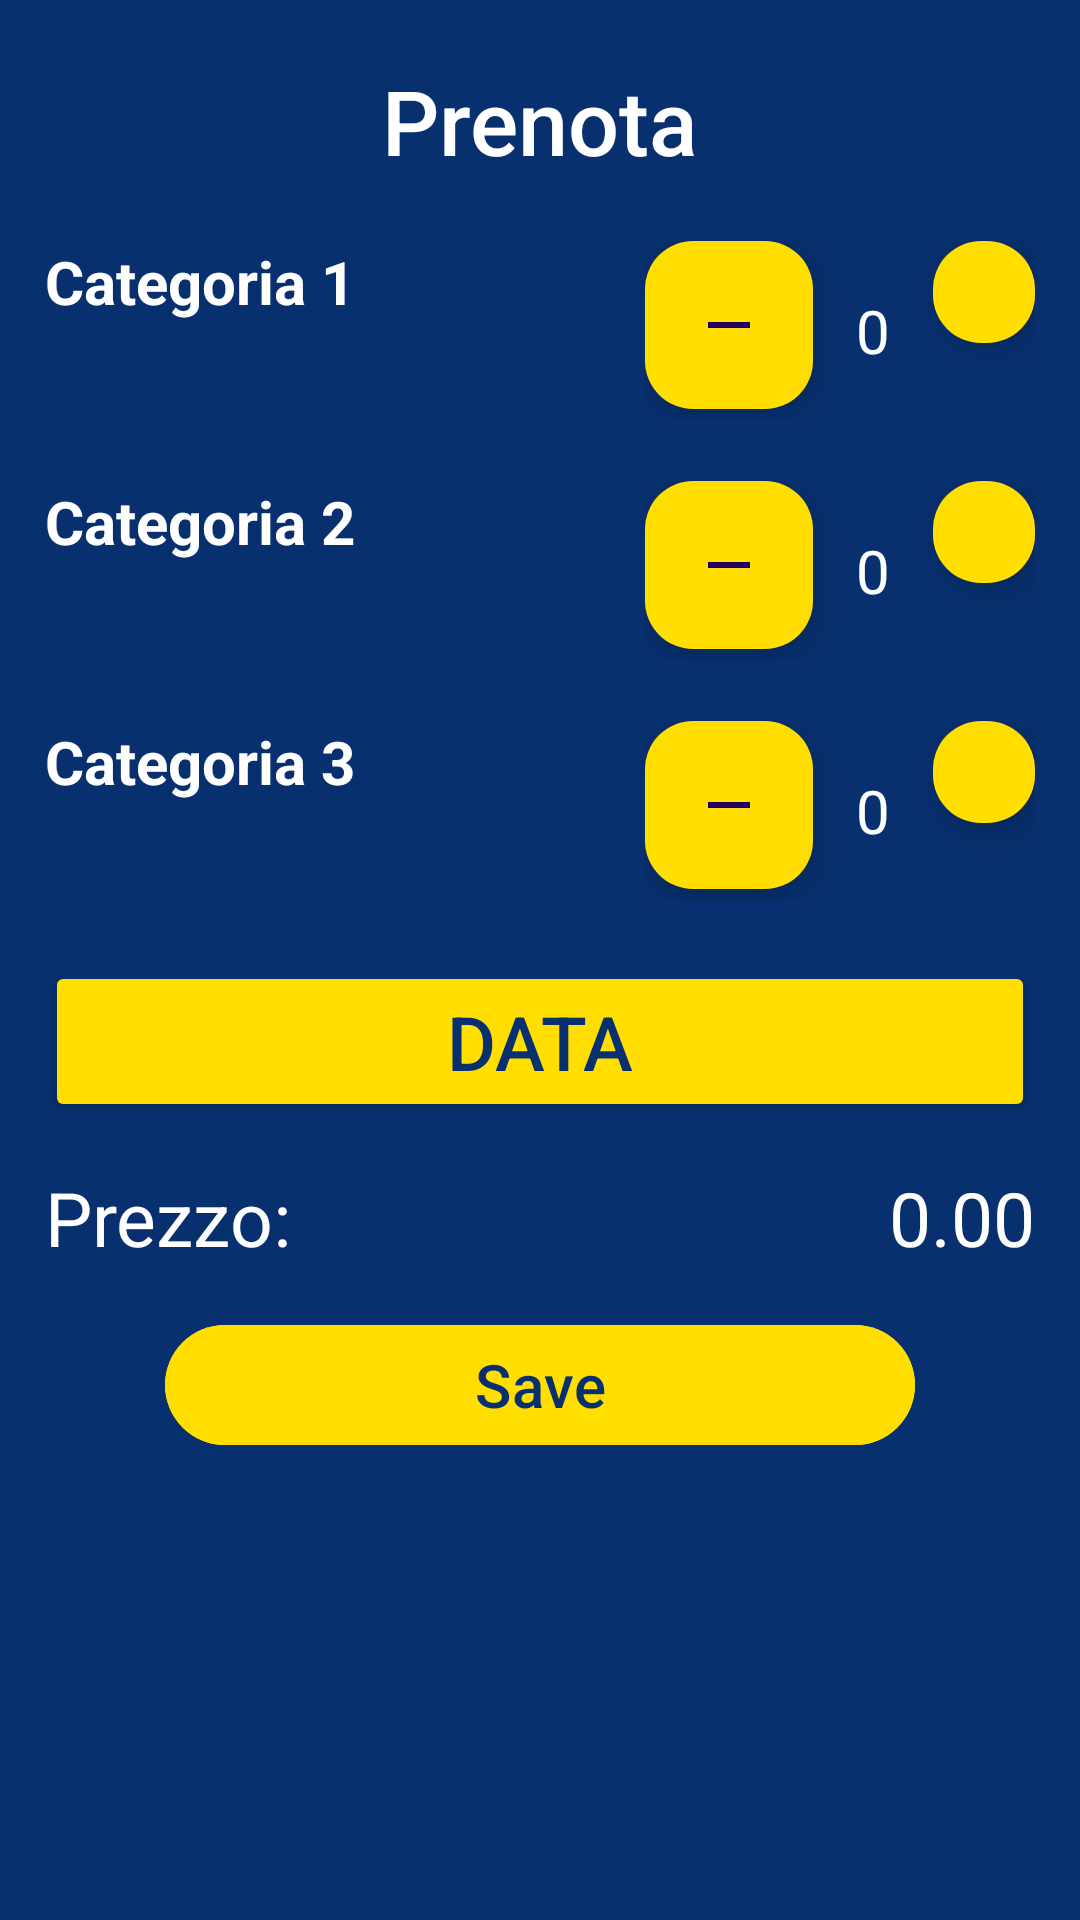

Point at icon controls on the screen. Image size 1080x1920, points as (x=x, y=y).
remove: (x=729, y=325), (x=729, y=565), (x=729, y=805)
